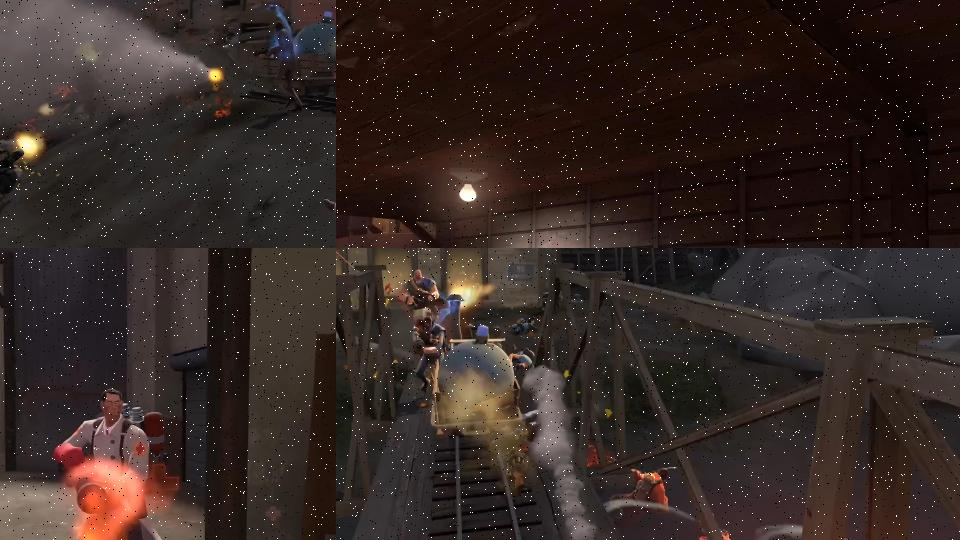Enemy: (35, 360, 195, 540), (253, 19, 305, 111), (603, 468, 674, 524), (412, 317, 446, 392), (398, 270, 445, 323), (509, 348, 535, 372), (510, 317, 539, 336)
